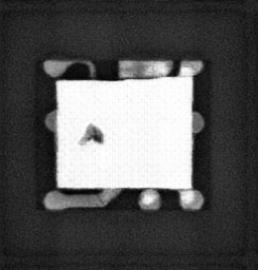DIE_INK: (77, 122, 103, 147)
